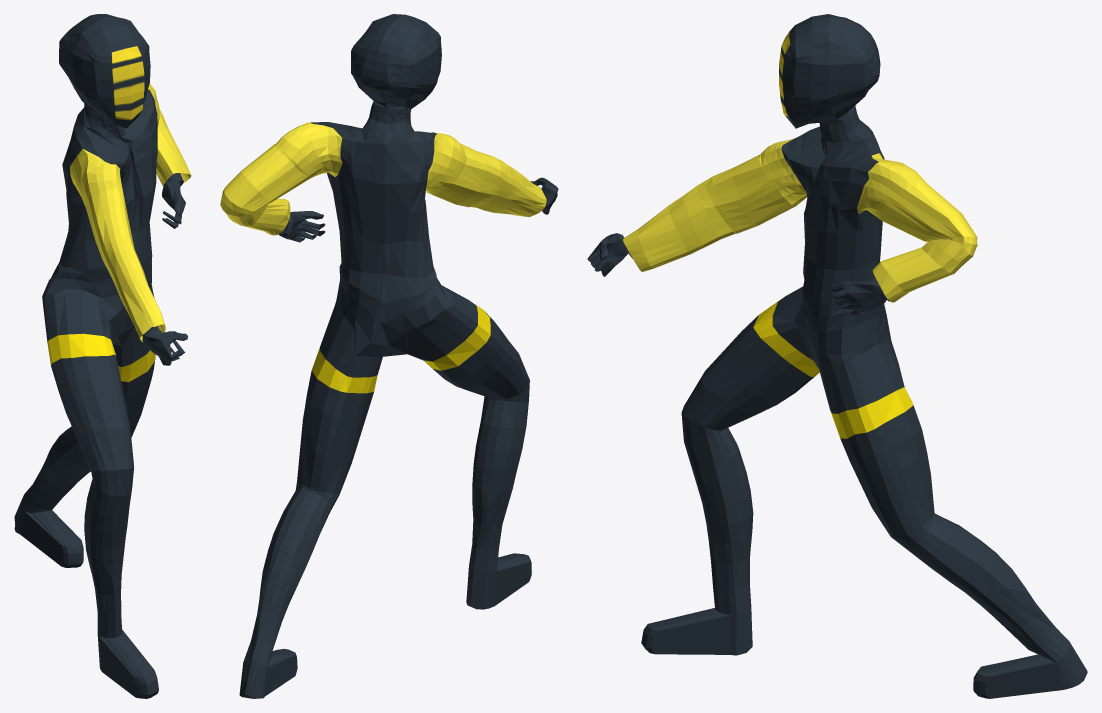
Rendered from Sentry_Stun_Recover_000016.obj.
3 renders of one model, left to right at view 1: azimuth 30°, elevation 25°; view 2: azimuth 150°, elevation 25°; view 3: azimuth 270°, elevation 25°, orthographic. The views are drawn at different scales.
Parts seen in each view (by area): view 1: Cube; view 2: Cube; view 3: Cube.
Part boxes in pixels (box(x1,y1,x2,y2)): Cube: box(14, 14, 191, 698); Cube: box(220, 14, 558, 698); Cube: box(587, 14, 1087, 698).
Size of the model in its own units: 1.17 by 3.61 by 2.49.
